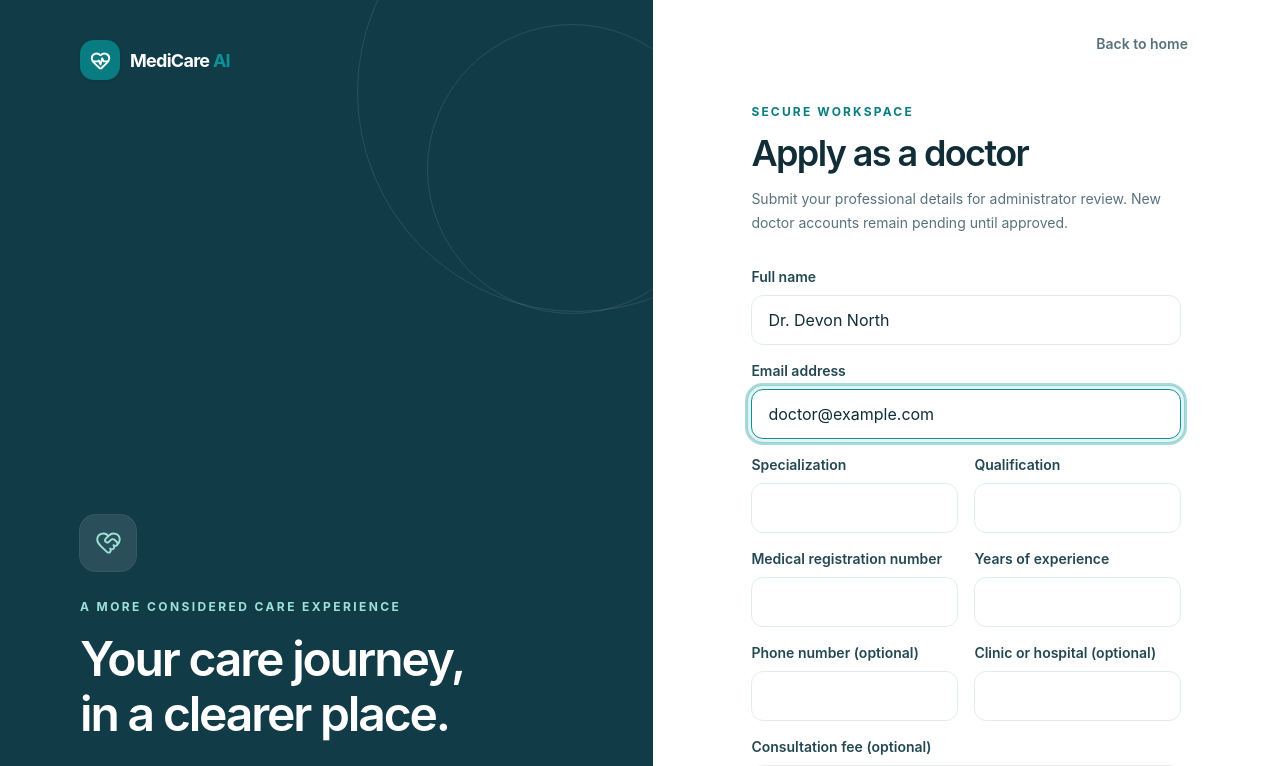
Test: registration verification routing › routes doctor registration to email verification without signing in
This screenshot has width=1280, height=766.
Earlier steps of the test are not shown.
Type "Family Medicine" into the field labelled "Specialization" at coordinates (855, 508), box [751,483,958,533]
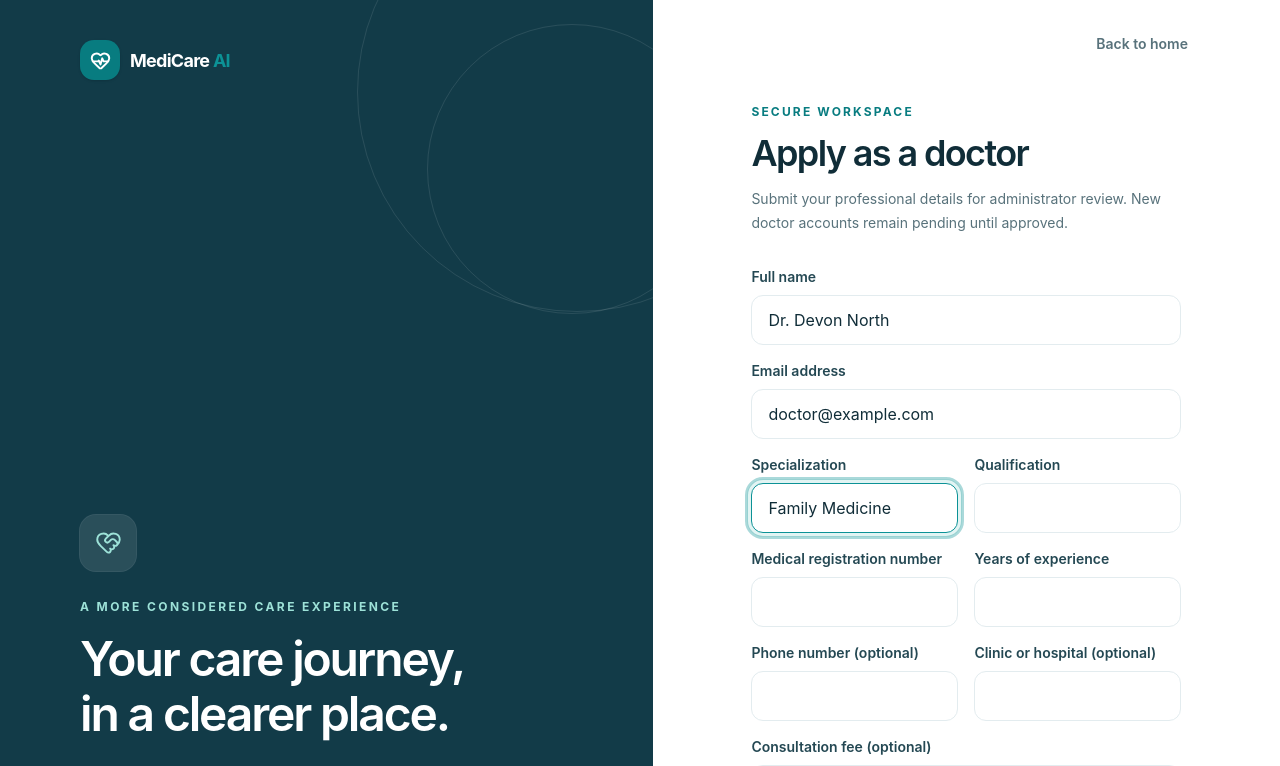
Type "MD" into the field labelled "Qualification" at coordinates (1078, 508), box [974,483,1181,533]
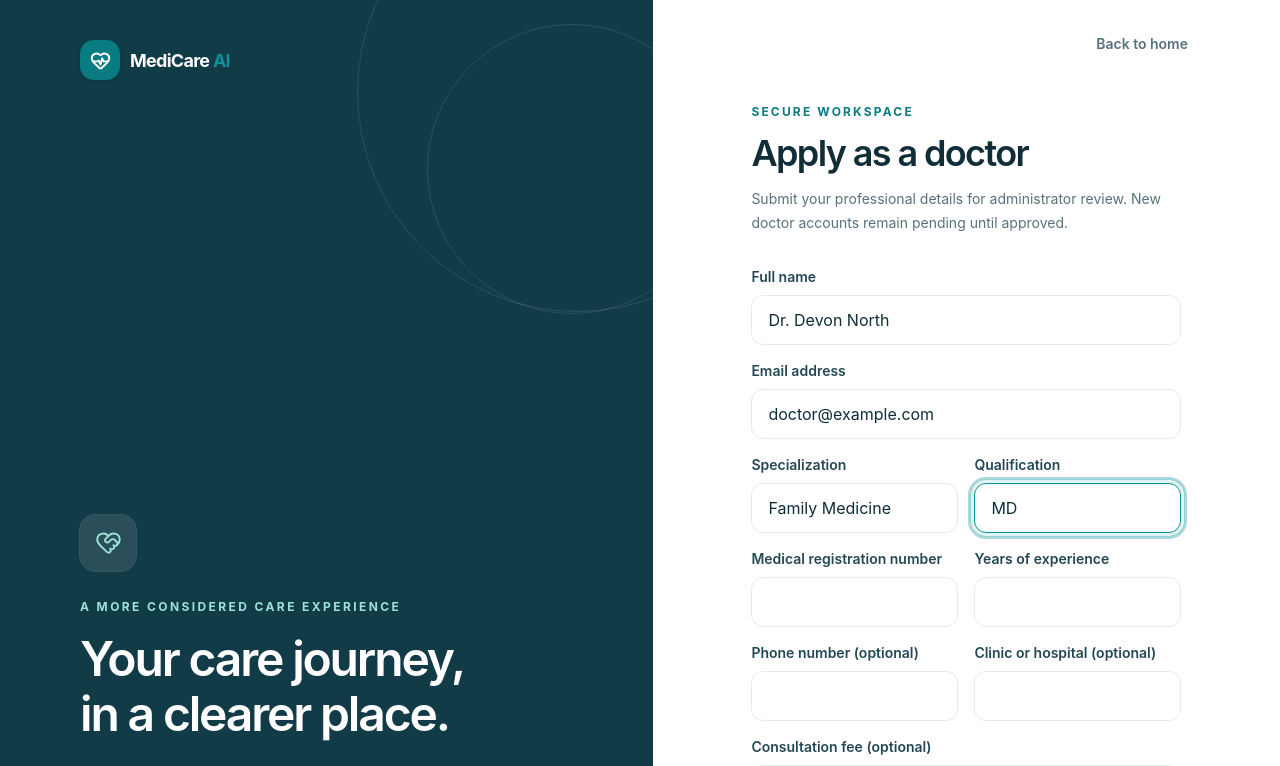
Type "DOC-0001" into the field labelled "Medical registration number" at coordinates (855, 602), box [751,577,958,627]
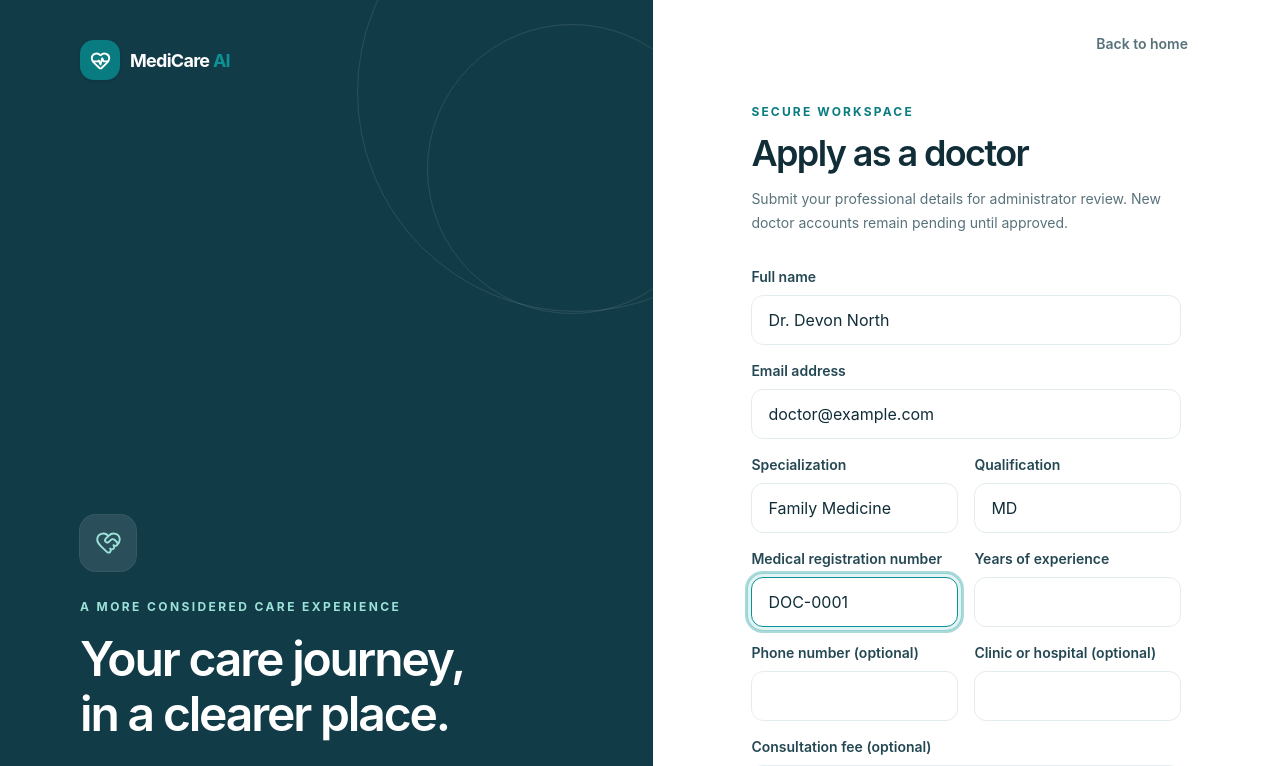
Type "5" into the number field labelled "Years of experience" at coordinates (1078, 602), box [974,577,1181,627]
(page scrolled)
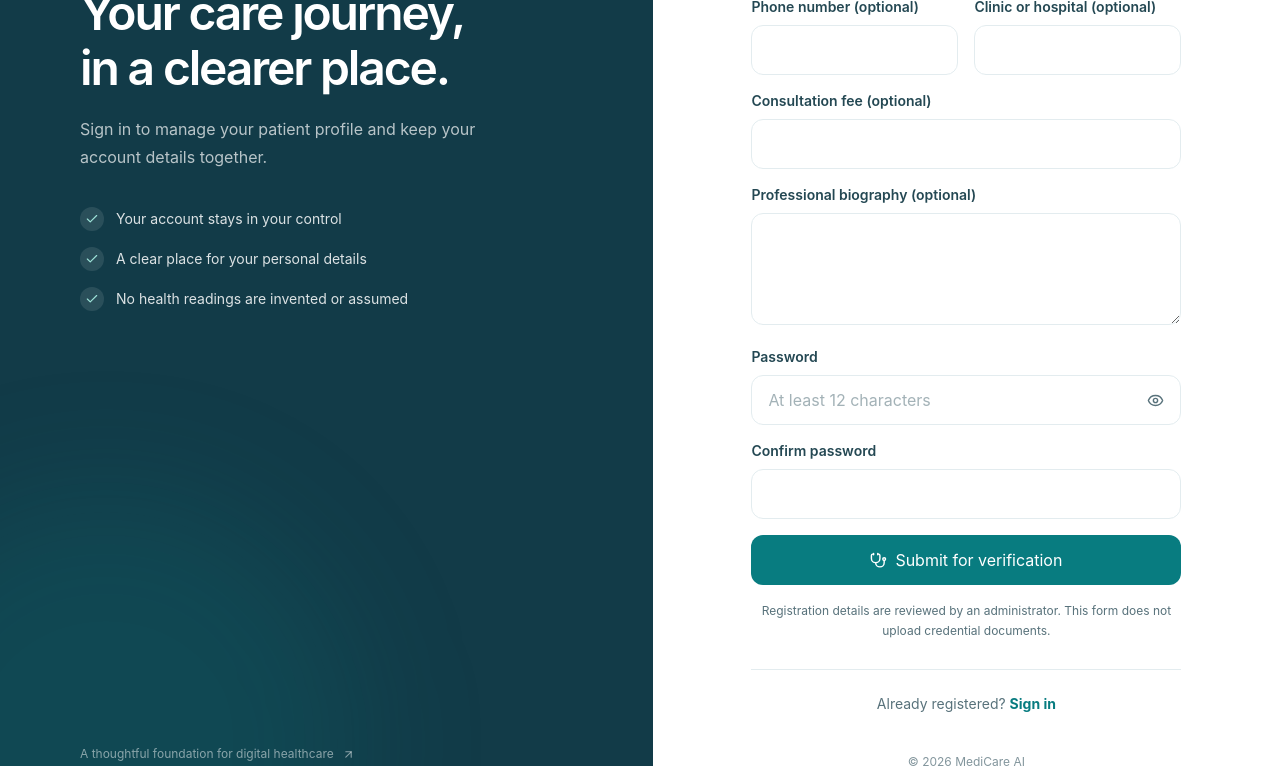
Type "another-strong-password" into the password field labelled "Password" at coordinates (966, 400), box [751,375,1181,425]
Type "another-strong-password" into the password field labelled "Confirm password" at coordinates (966, 494), box [751,469,1181,519]
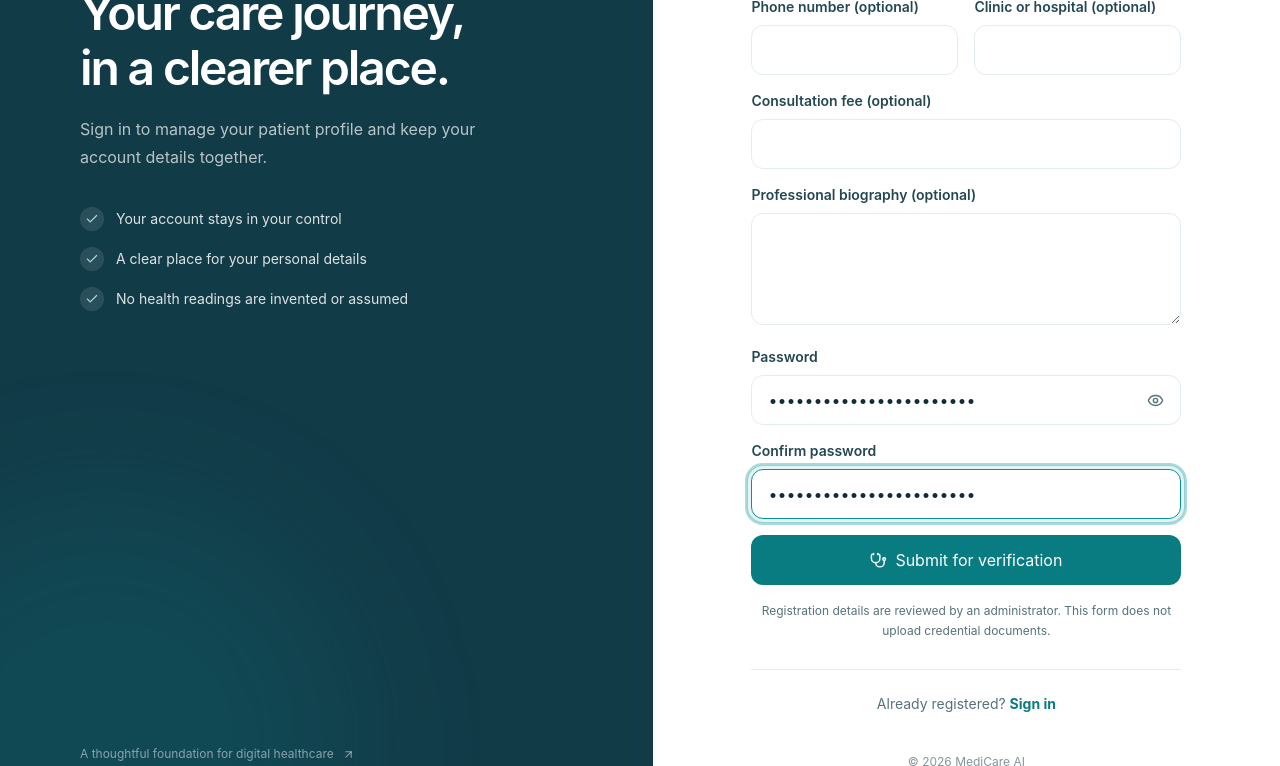
Click the button "Submit for verification" at coordinates (966, 560), box [751,535,1181,585]
(page scrolled)
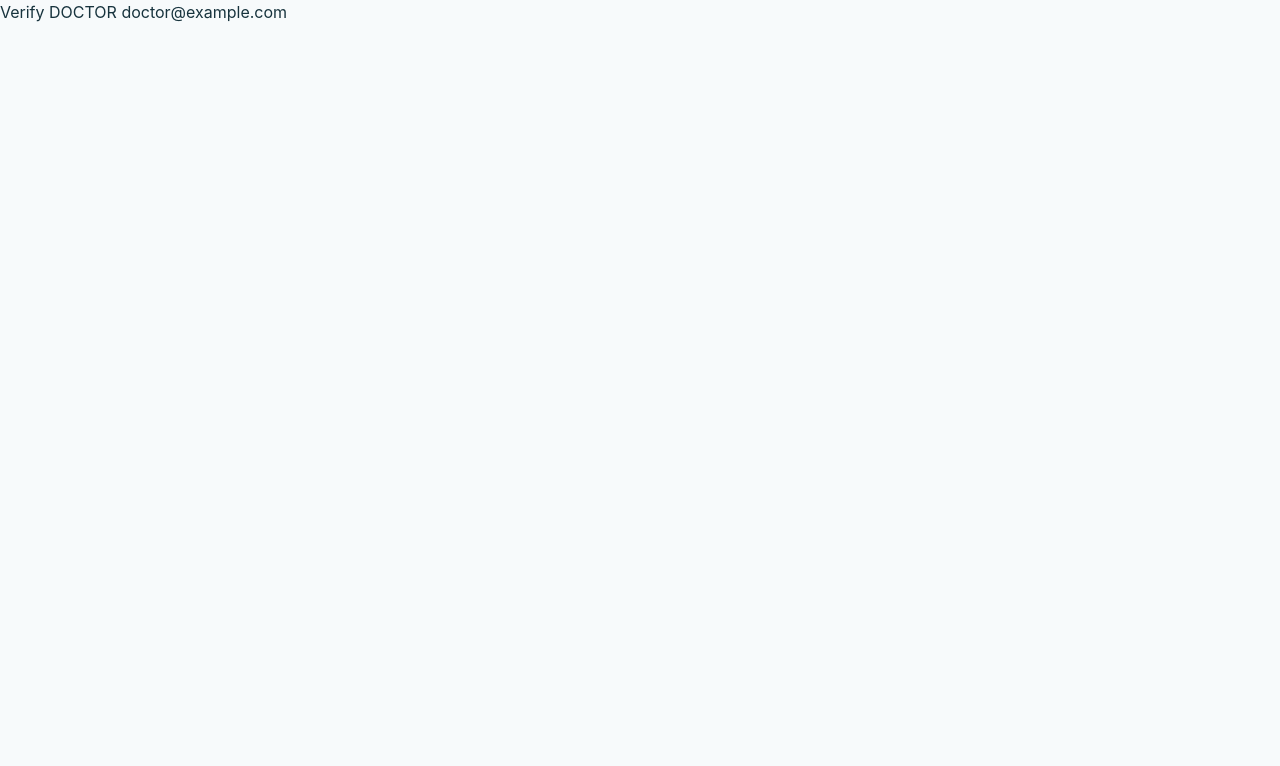
Check: the text "Verify DOCTOR doctor@example.com" is shown, box [0,2,287,22]
